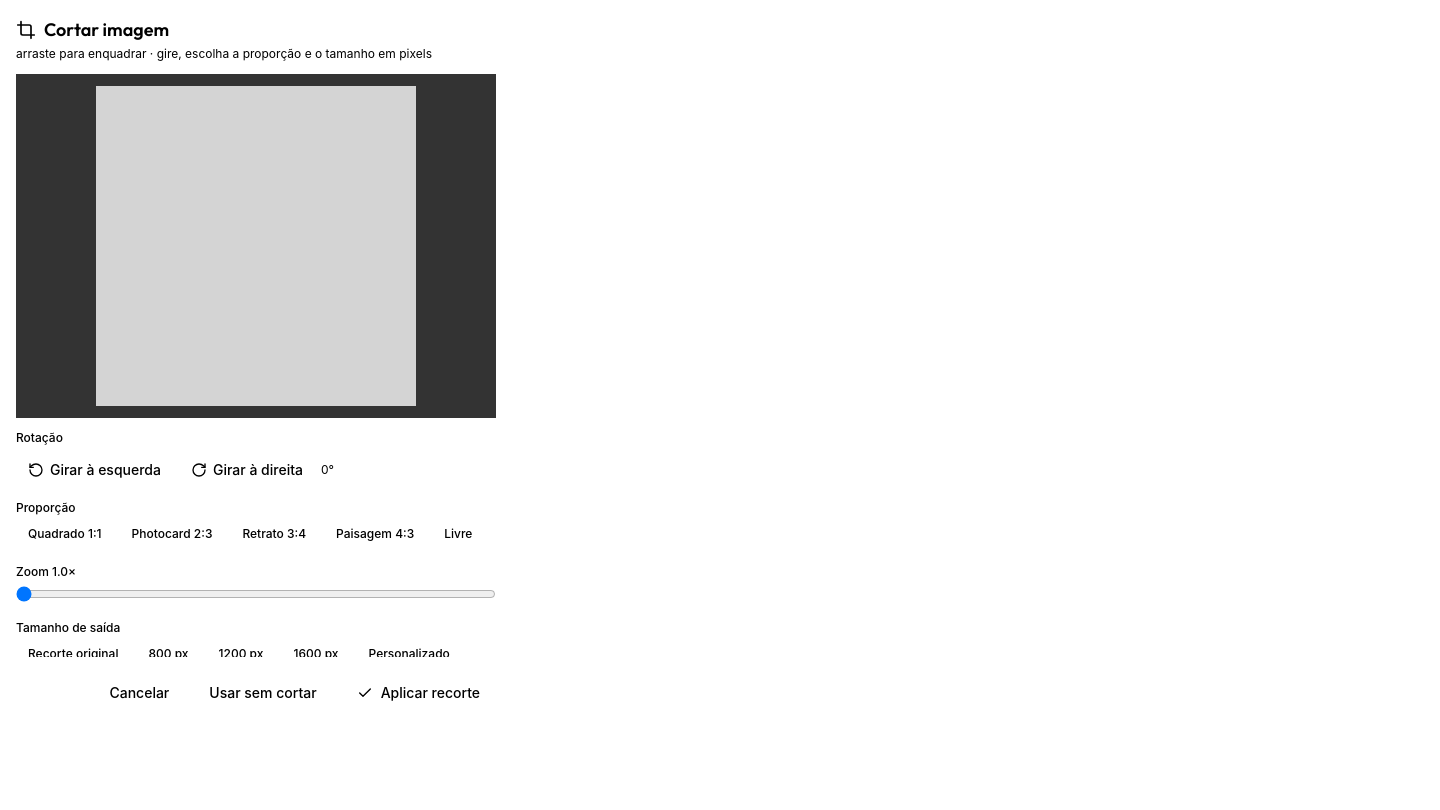
it: ImageCropDialog › offers to keep the rotation without cropping
Expected: the button "Usar sem cortar" is shown, [193,673,333,713]
Click the button "Girar à direita" at (247, 470), box [179,452,315,488]
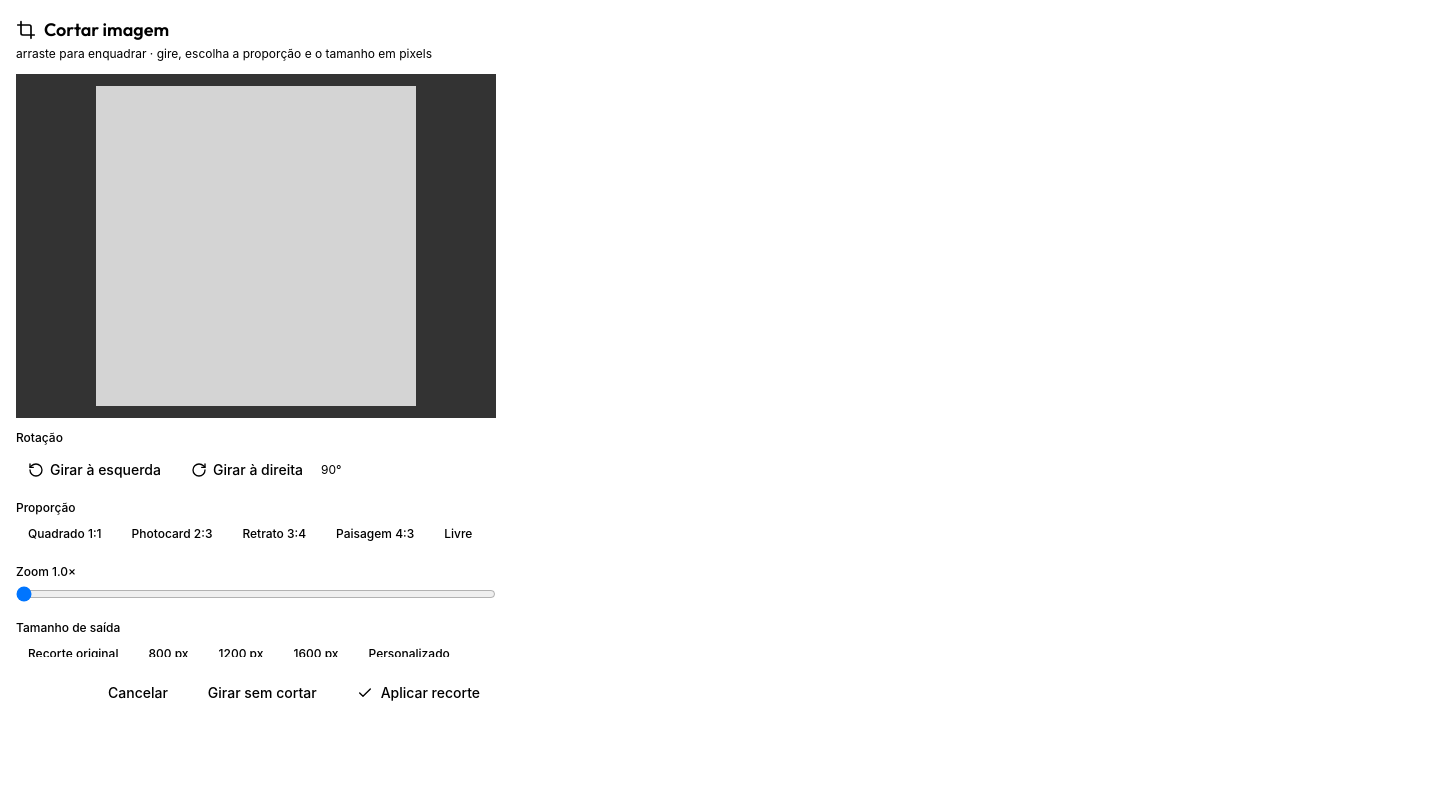
Expected: the button "Girar sem cortar" is shown, [192,673,333,713]
